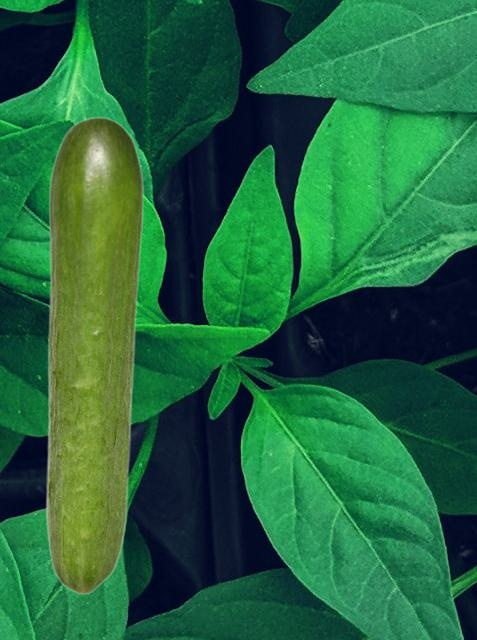cucumber: (45, 116, 143, 594)
